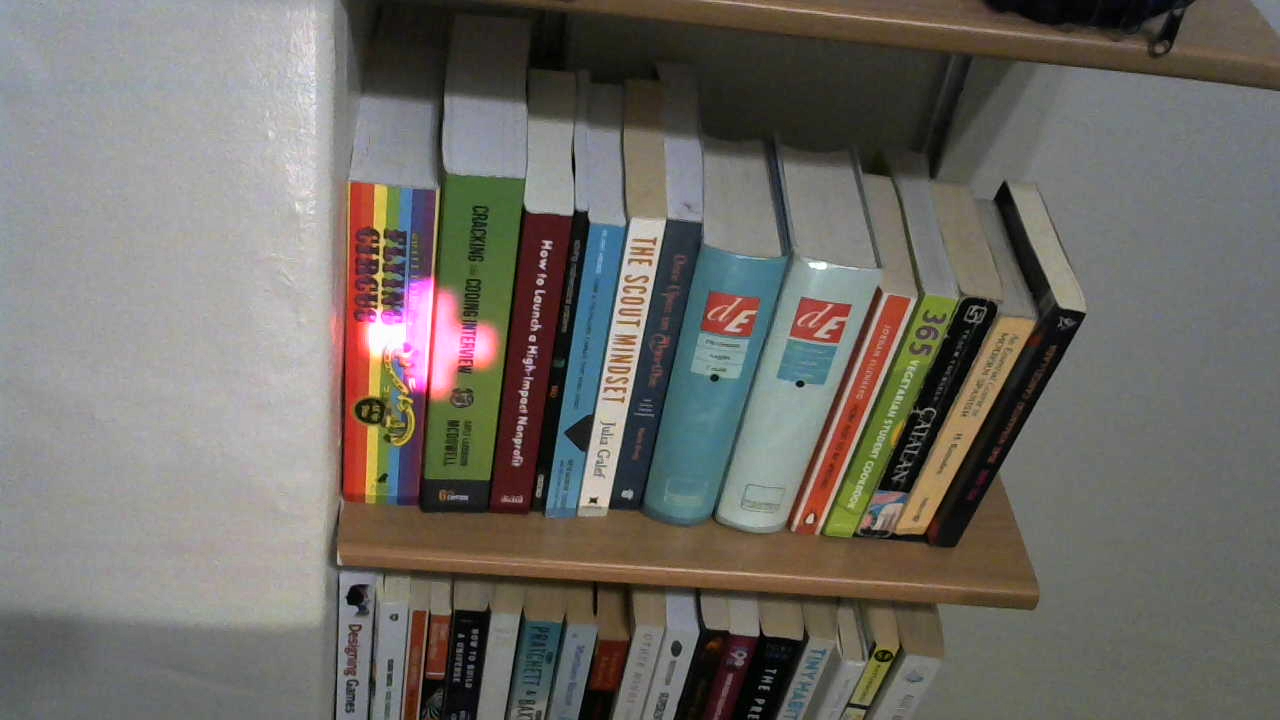calibration_symbol: (362, 278, 501, 398)
